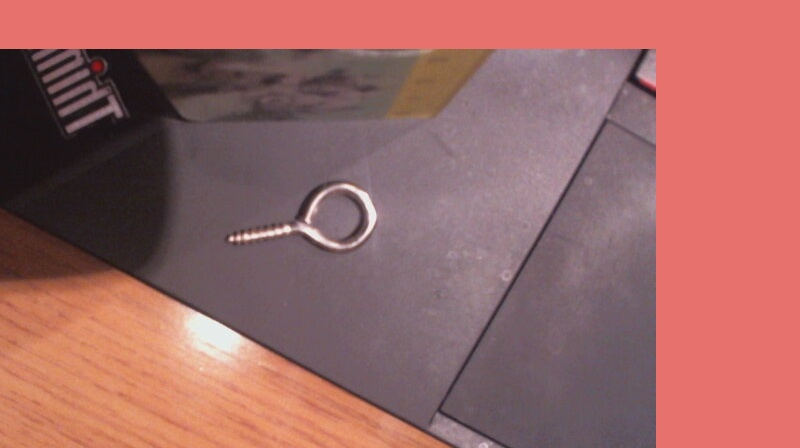O001: (227, 178, 383, 253)
